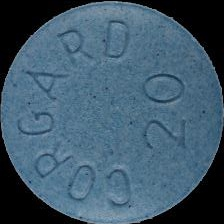59762-0810: (0, 0, 224, 224)
